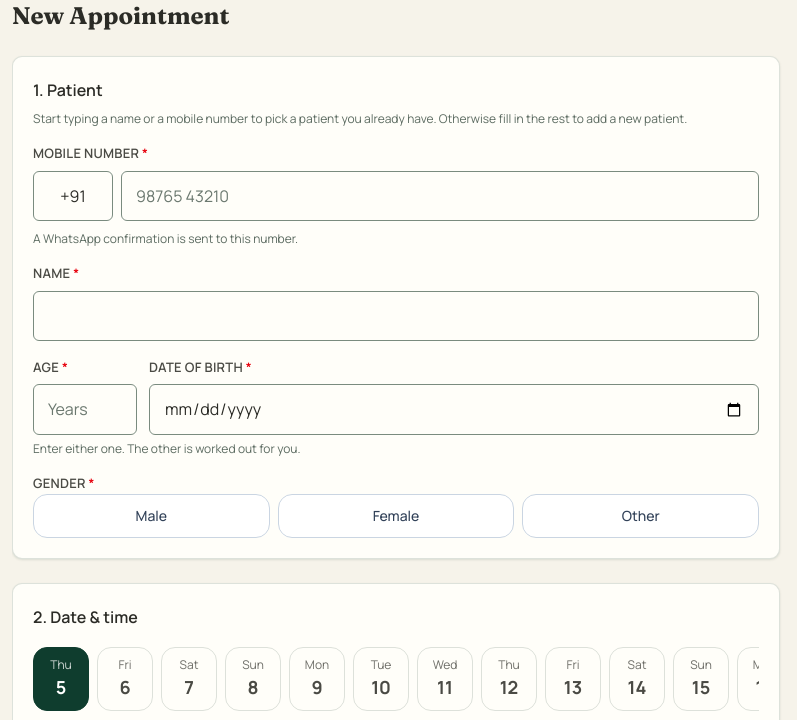
Test: the length of a visit (staff) › starts at one slot and goes up and down by one slot at a time
Check: the heading "1. Patient" is shown, box [33,79,103,101]
In the dropdown labelled "Name *": (396, 316) [33,291,759,341], type "Meera Joshi"
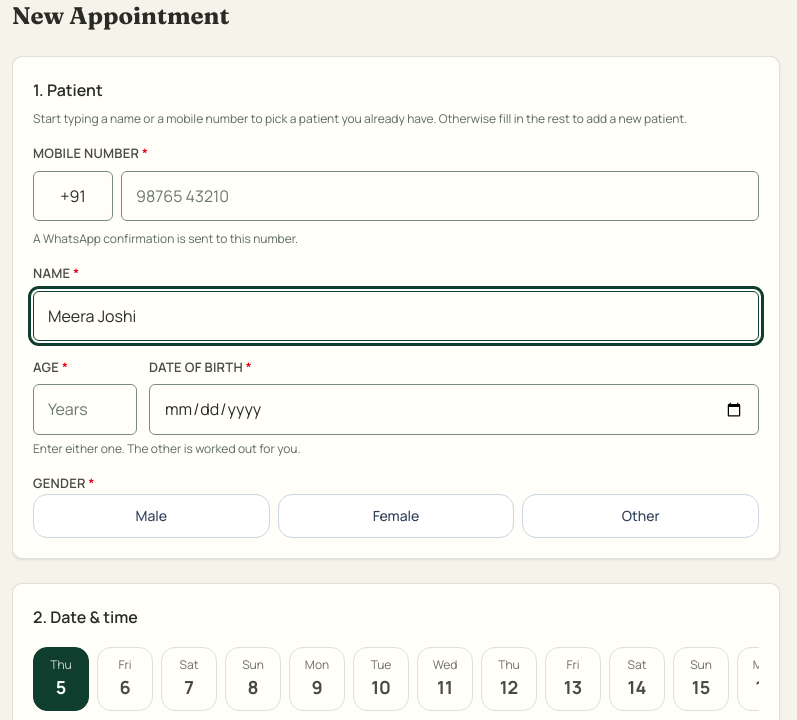
In the dropdown labelled "Mobile number *": (440, 196) [121,171,759,221], type "+919811100000"
(page scrolled)
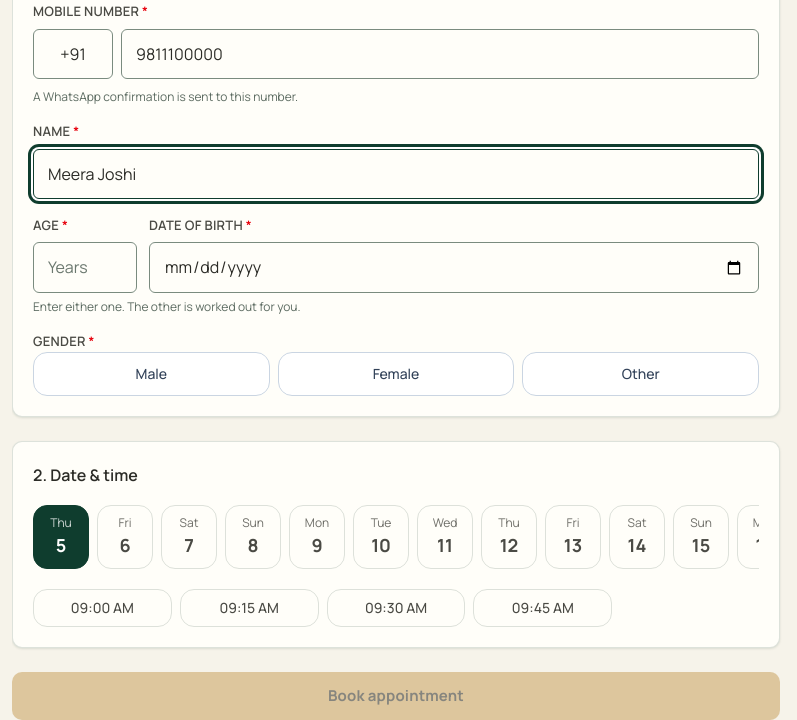
Click the button "09:00 AM": click(102, 608) [33,589,172,627]
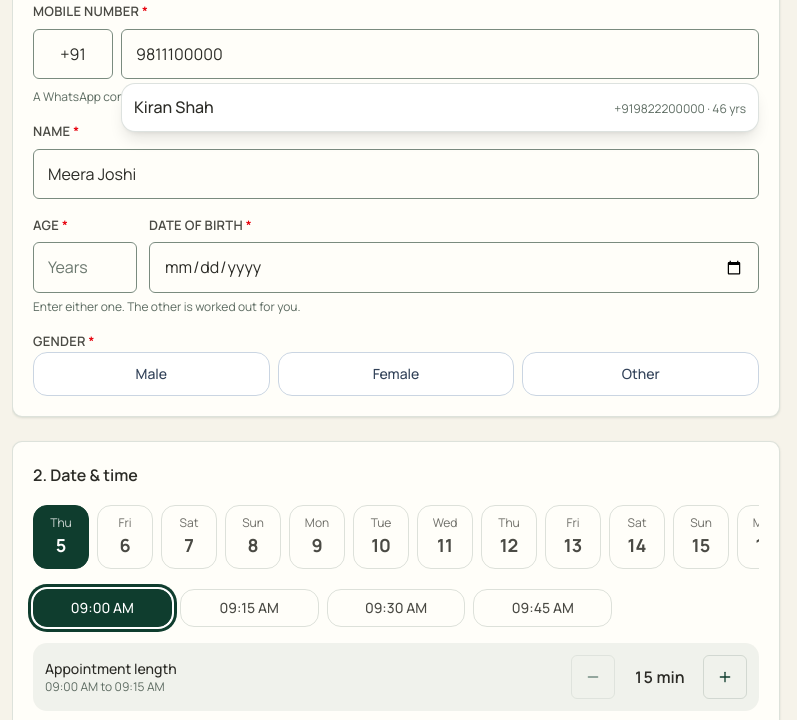
Check: the text with test id "visit-minutes" reads "15 min", box [633,666,685,688]
Check: the button named "Shorter by one slot" is disabled, box [571,655,615,699]
Click the button named "Longer by one slot": click(725, 677) [703,655,747,699]
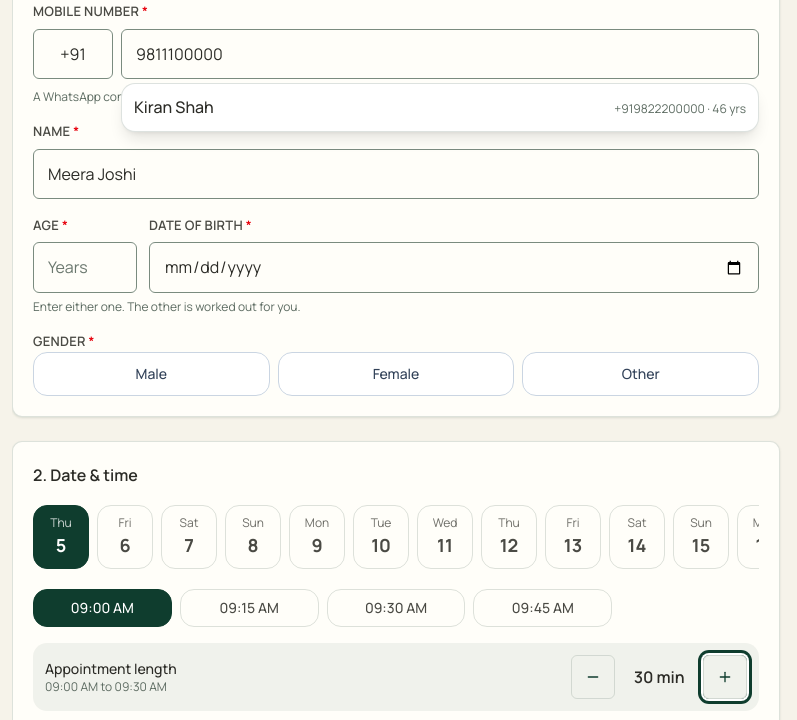
Check: the text with test id "visit-minutes" reads "30 min", box [633,666,685,688]
Click the button named "Longer by one slot": click(725, 677) [703,655,747,699]
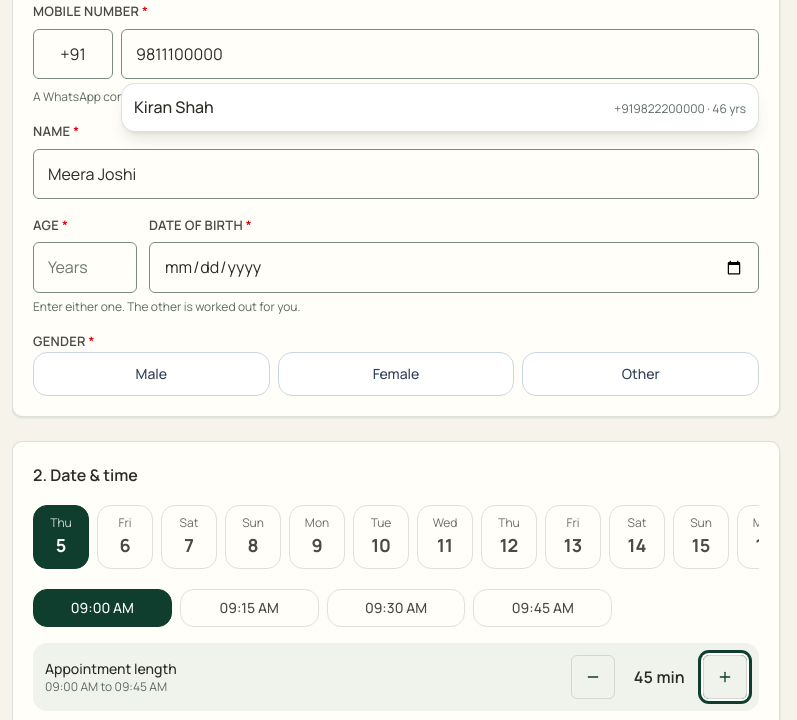
Check: the text with test id "visit-minutes" reads "45 min", box [633,666,685,688]
Click the button named "Shorter by one slot": click(593, 677) [571,655,615,699]
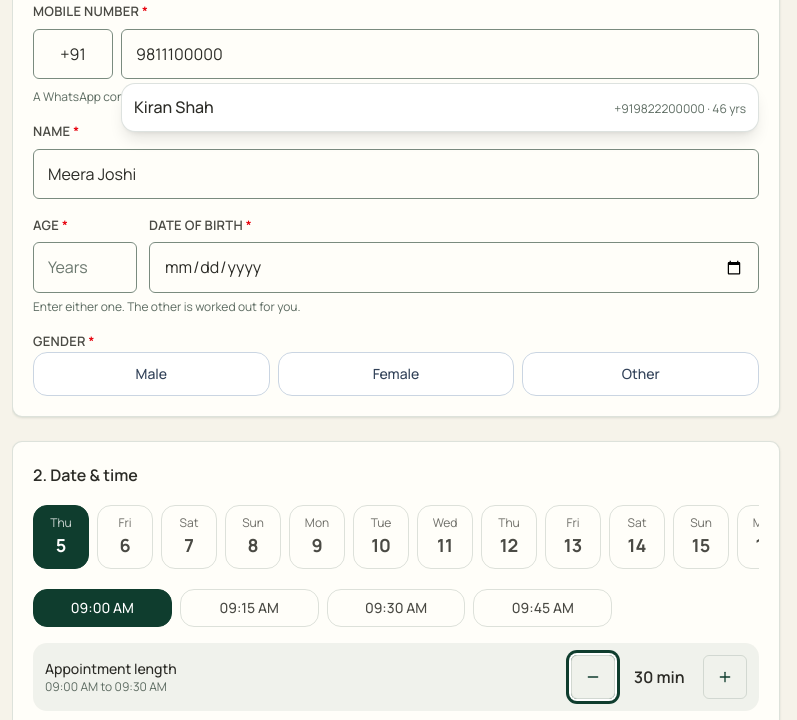
Check: the text with test id "visit-minutes" reads "30 min", box [633,666,685,688]
Check: the text "09:00 AM to 09:30 AM" is shown, box [45,679,177,695]
